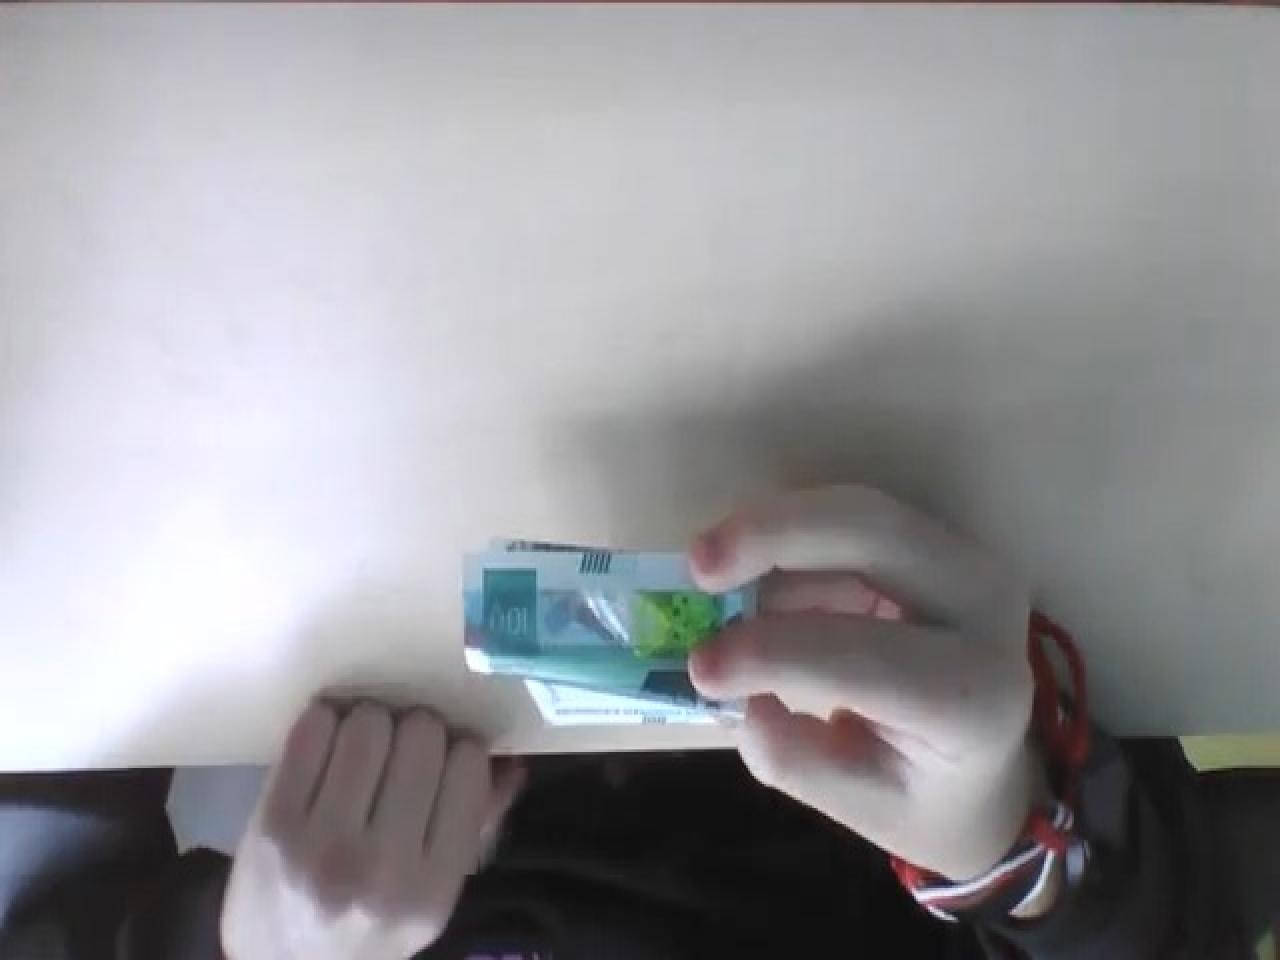100leva: (460, 538, 760, 733)
